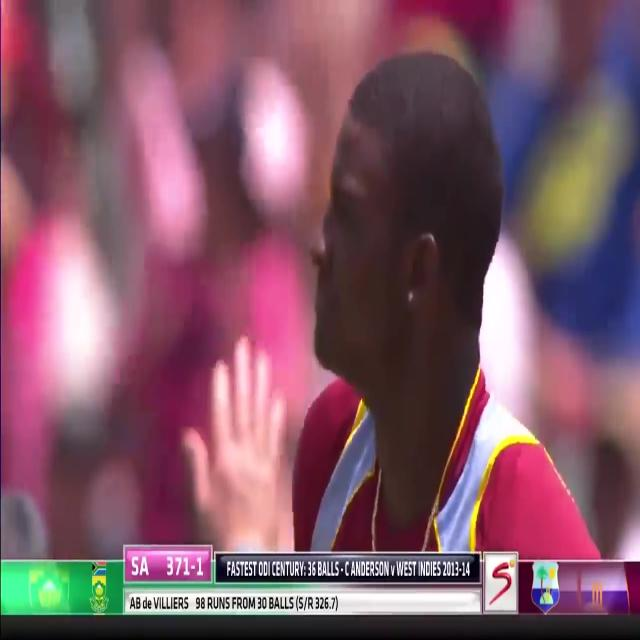Fielder: (144, 4, 630, 556)
